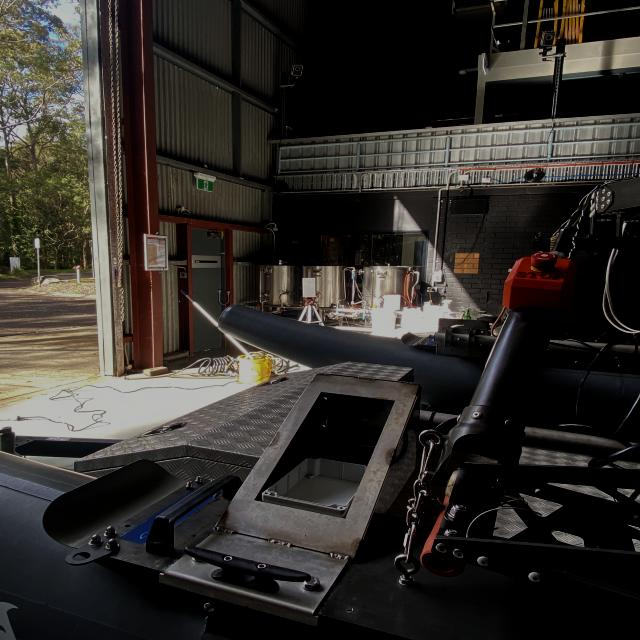matrix: (300, 277, 320, 298)
